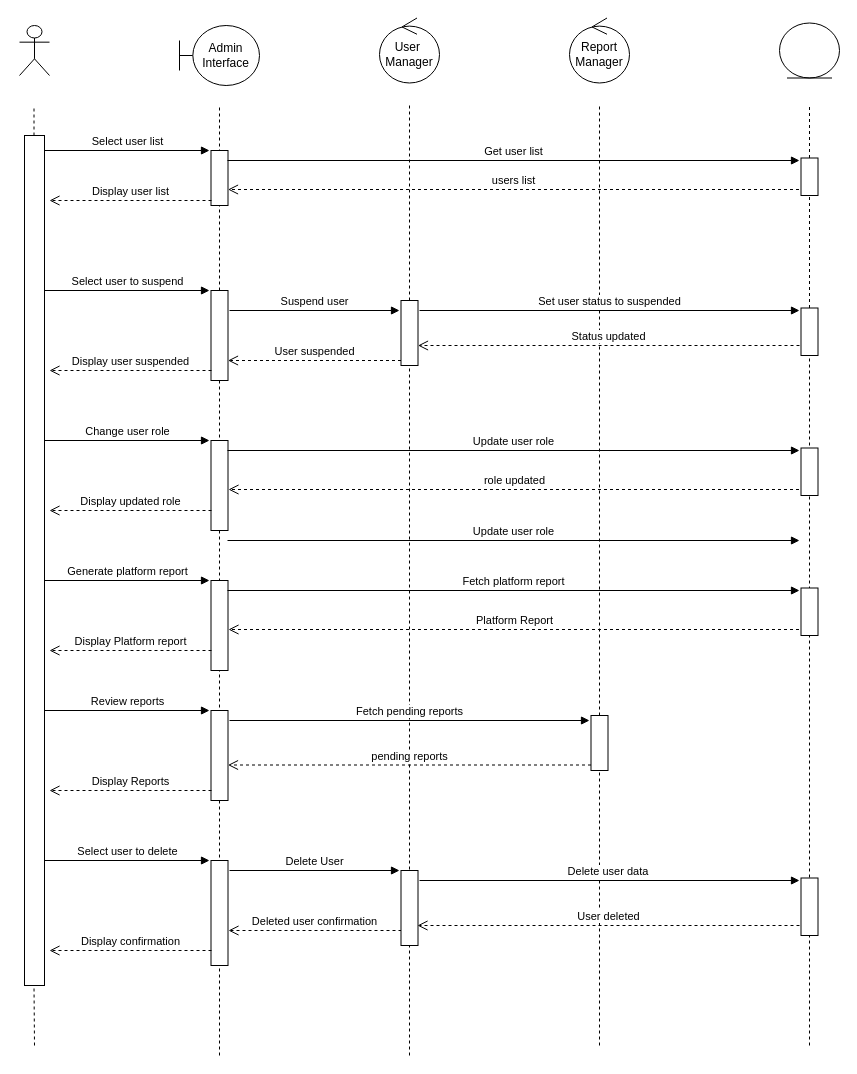
Some shapes in this 857 by 1074 pixel diagram are drawn without their labels. The centre of each missing label's shape, as x and y in pixels:
Admin: (x=34, y=50)
AuditLog: (x=809, y=50)
